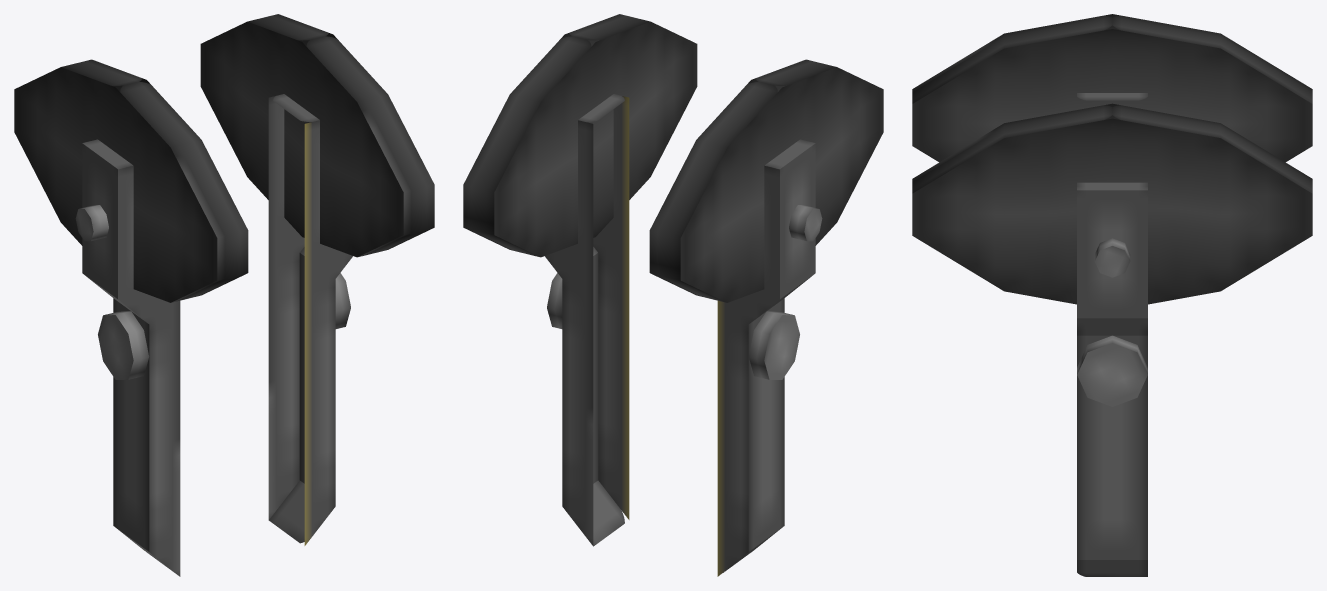
File: pumpjack_rotor.obj
The picture shows the model from 3 angles, left to right: view 1: azimuth 30°, elevation 25°; view 2: azimuth 150°, elevation 25°; view 3: azimuth 270°, elevation 25°; orthographic projection.
Parts seen in each view (by area): view 1: Rotor; view 2: Rotor; view 3: Rotor.
Part boxes in pixels (bbox=[...]): Rotor: bbox=[14, 14, 434, 576]; Rotor: bbox=[463, 14, 883, 576]; Rotor: bbox=[912, 14, 1312, 576].
Bounding box in the file's own units: 1.12 × 1.88 × 1.41.
